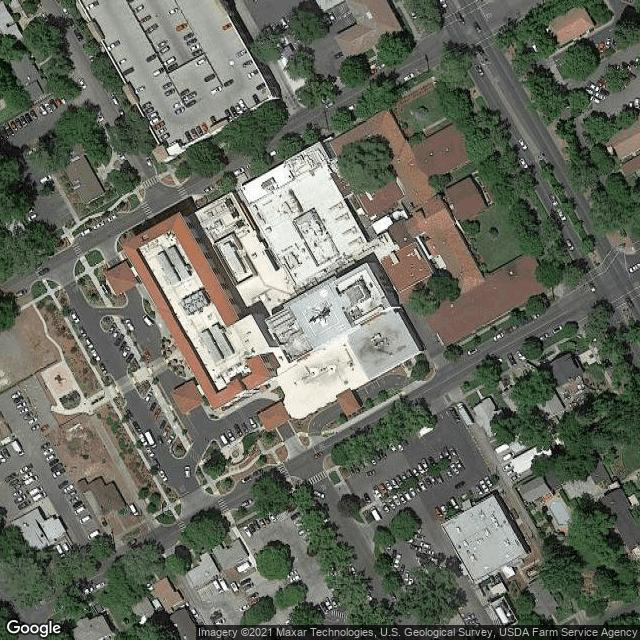Helipad: (304, 300, 336, 333)
